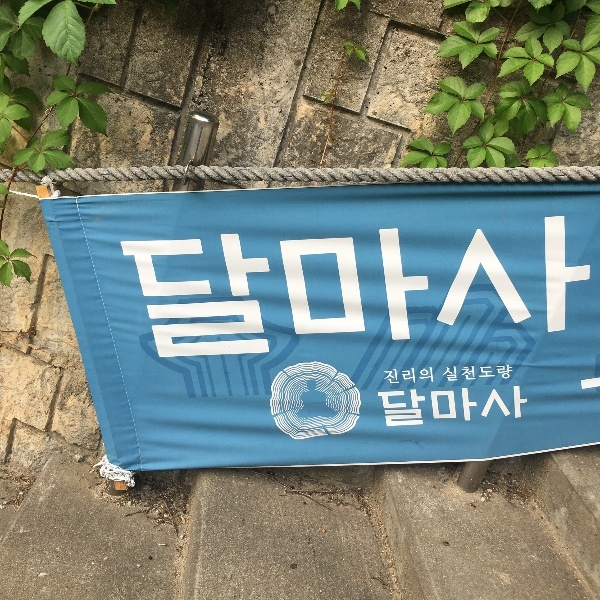text: (129, 211, 144, 365), (145, 211, 160, 365), (161, 211, 176, 365), (177, 211, 192, 365), (193, 211, 208, 365), (209, 211, 224, 365), (225, 211, 240, 365), (241, 211, 256, 365), (257, 211, 272, 365), (273, 211, 288, 365), (289, 211, 304, 365), (305, 211, 320, 365), (321, 211, 336, 365), (337, 211, 352, 365), (353, 211, 368, 365), (369, 211, 384, 365), (385, 211, 400, 365), (401, 211, 416, 365), (417, 211, 432, 365), (433, 211, 448, 365), (449, 211, 464, 365), (465, 211, 480, 365), (481, 211, 496, 365), (497, 211, 512, 365), (513, 211, 528, 365), (529, 211, 544, 365), (545, 211, 560, 365), (561, 211, 576, 365), (577, 211, 592, 365), (116, 211, 128, 365), (513, 385, 529, 429), (385, 385, 400, 429), (401, 385, 416, 429), (417, 385, 432, 429), (433, 385, 448, 429), (449, 385, 464, 429), (465, 385, 480, 429), (481, 385, 496, 429), (497, 385, 512, 429), (376, 385, 384, 429), (497, 364, 513, 383), (449, 364, 464, 383), (465, 364, 480, 383), (481, 364, 496, 383), (385, 367, 400, 385), (401, 367, 416, 385), (417, 367, 432, 385), (580, 376, 592, 393), (593, 211, 594, 365), (593, 376, 600, 393), (447, 364, 448, 383), (433, 367, 434, 385)
